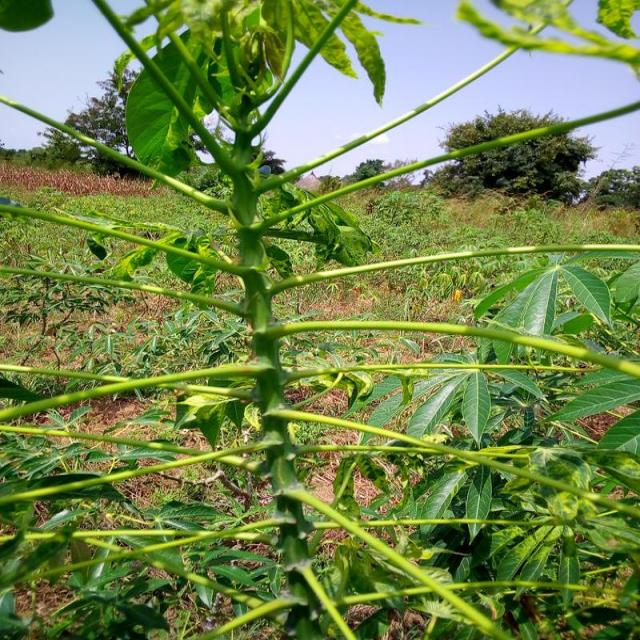cassava leaf: (124, 27, 218, 179)
